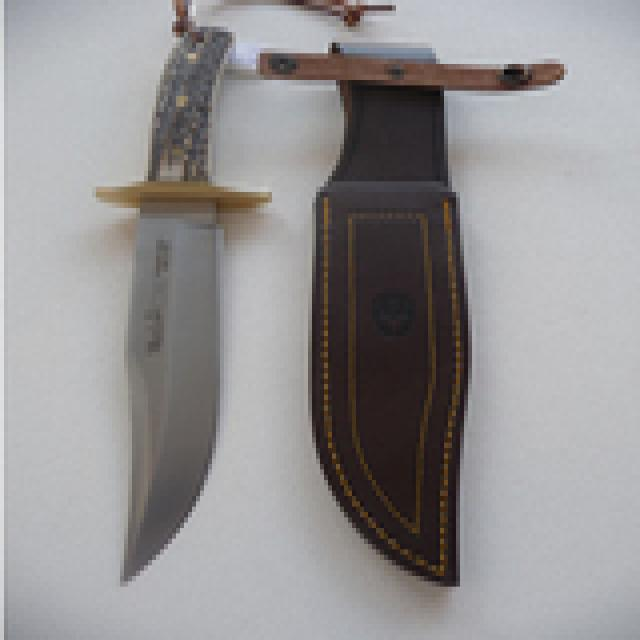Knife: (93, 14, 521, 597)
